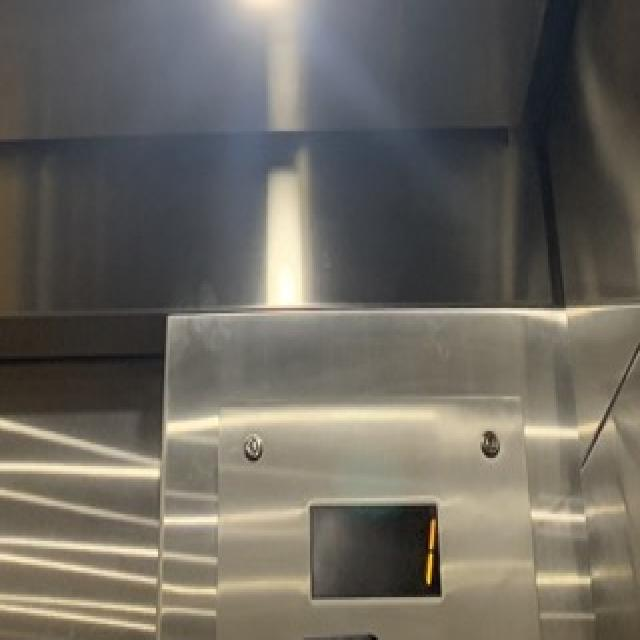box: (300, 498, 452, 605)
